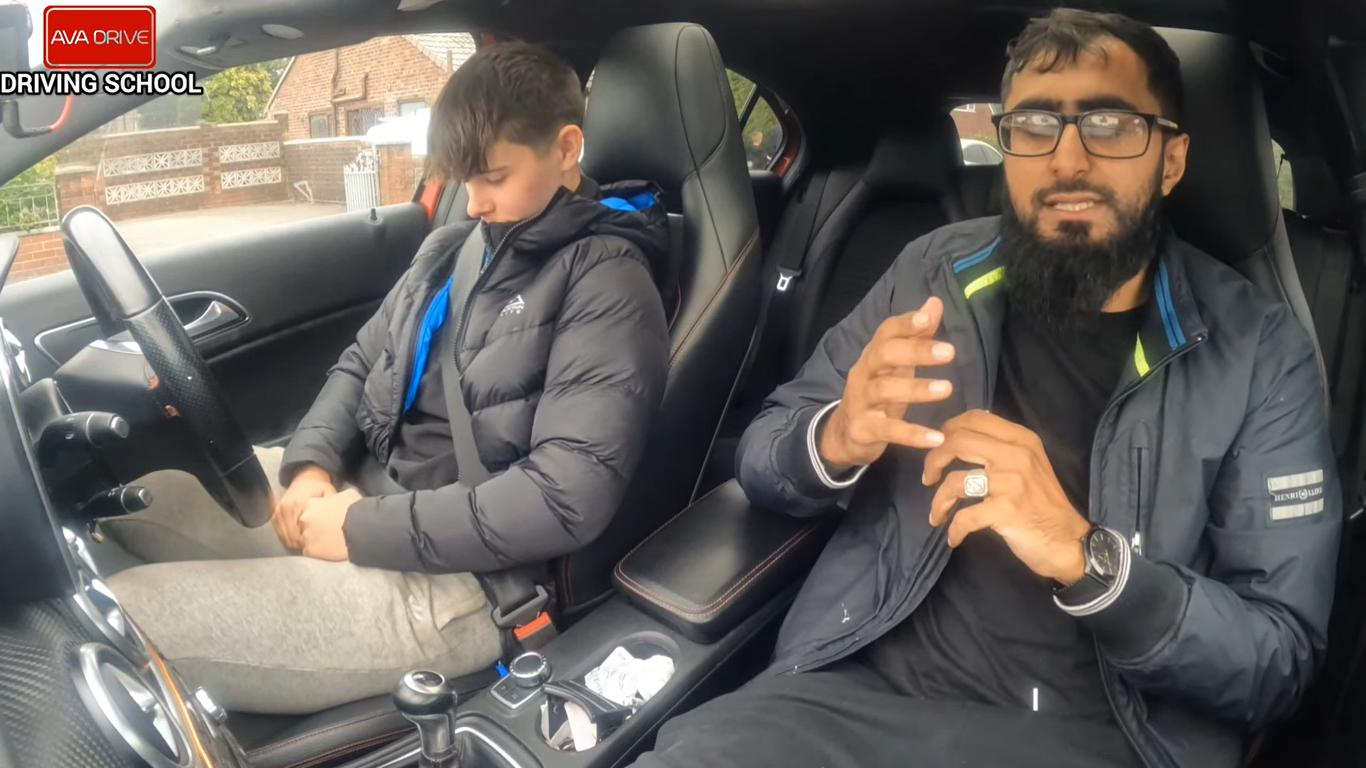no-seatbelt: (947, 240, 1211, 704)
seatbelt: (417, 222, 498, 588)
